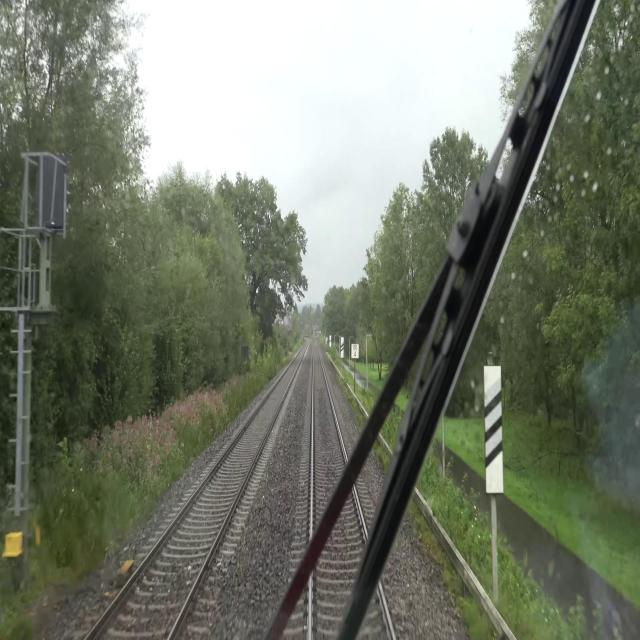rail-track: (312, 343, 391, 639)
